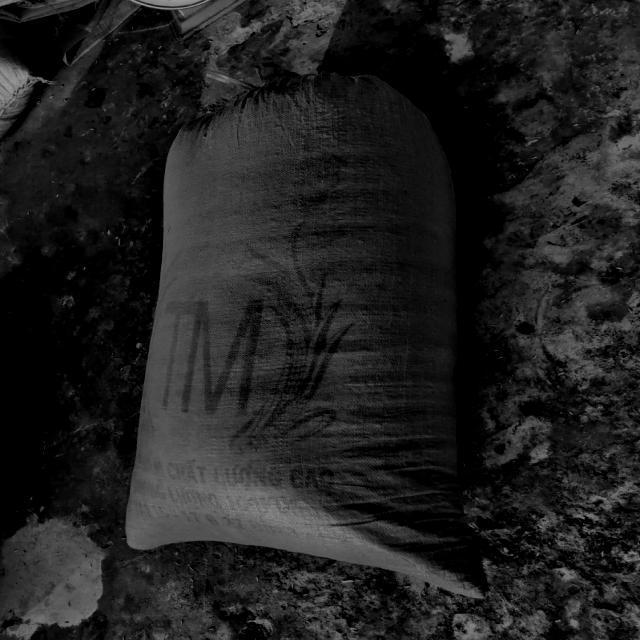gunny_bag: (126, 73, 487, 599)
